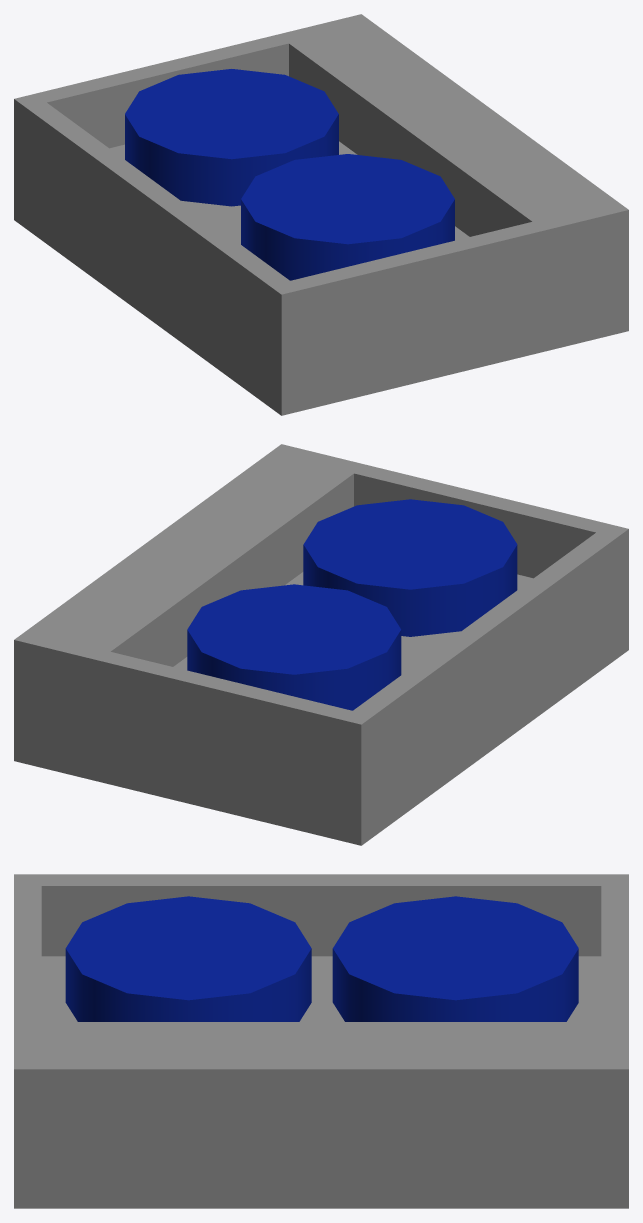
Rendered from Cassette.FBX.
3 views of the same model, one above another, from view 1: azimuth 30°, elevation 25°; view 2: azimuth 150°, elevation 25°; view 3: azimuth 270°, elevation 25° (orthographic). The views are drawn at different scales.
Visible parts, largest first — view 1: Box001; view 2: Box001; view 3: Box001.
Part boxes in pixels (x1=…): Box001: x1=14, y1=14, x2=628, y2=415; Box001: x1=14, y1=444, x2=628, y2=845; Box001: x1=14, y1=874, x2=628, y2=1208.
Size of the model in its own units: 16.91 by 5.88 by 22.55.
